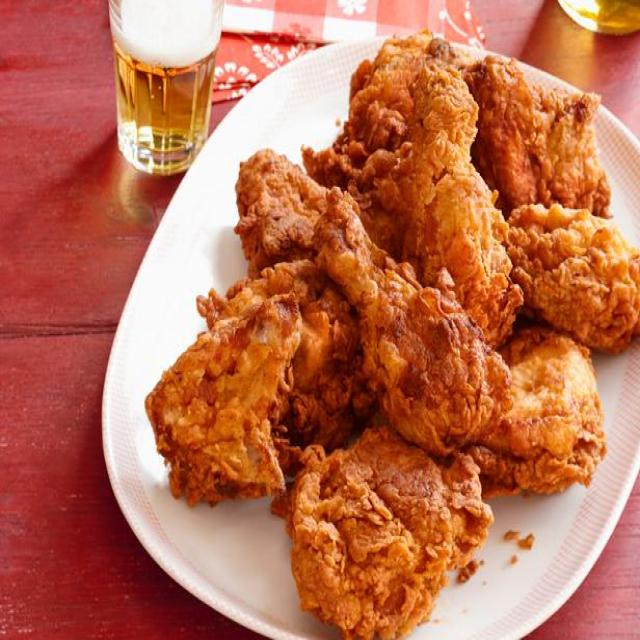Frango: (140, 23, 639, 640)
